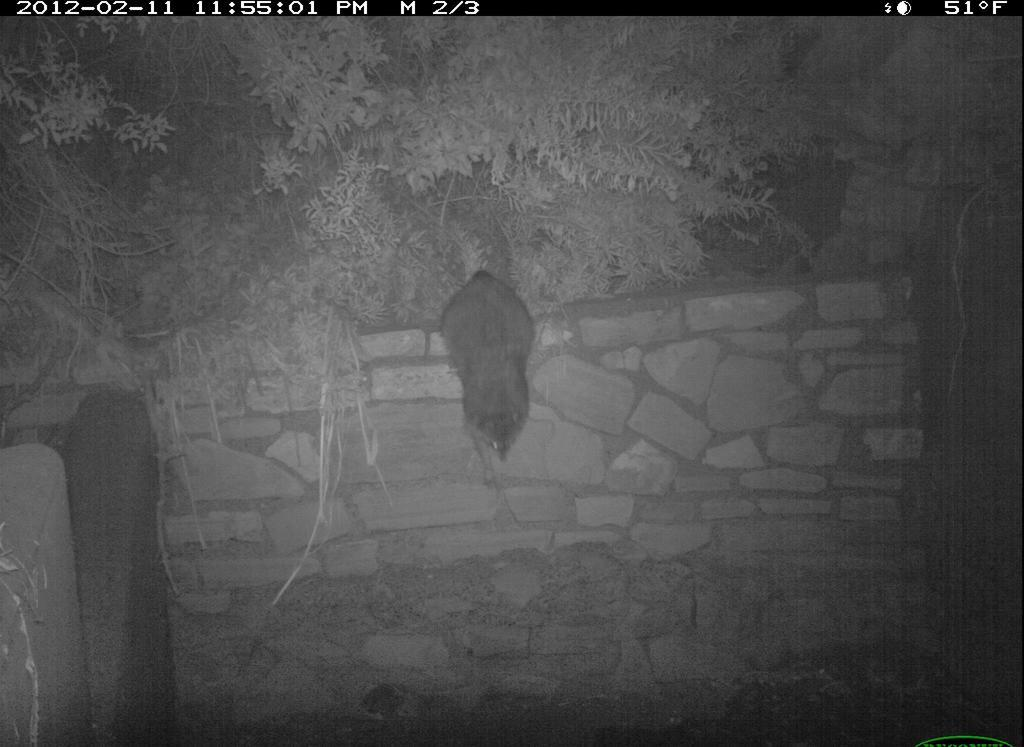raccoon: (434, 262, 560, 481)
